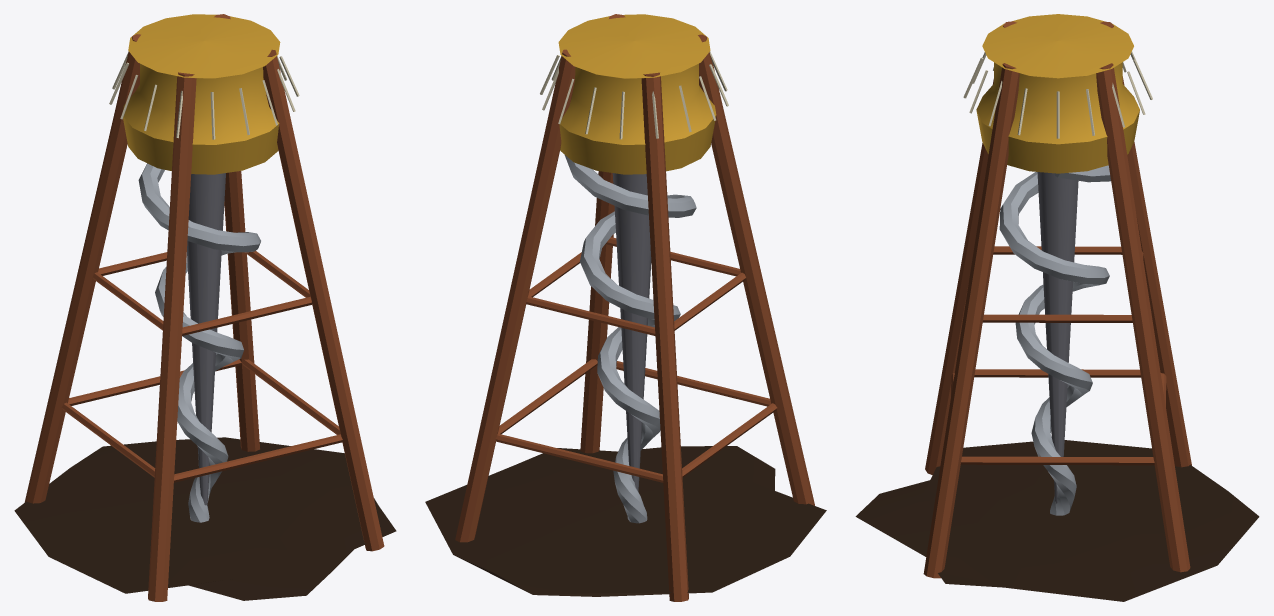
File: drill_rig.glb
The picture shows the model from 3 angles, left to right: view 1: azimuth 30°, elevation 25°; view 2: azimuth 150°, elevation 25°; view 3: azimuth 270°, elevation 25°; orthographic projection.
Parts seen in each view (by area): view 1: drill_rig; view 2: drill_rig; view 3: drill_rig.
Part boxes in pixels (bbox=[...]): drill_rig: bbox=[14, 14, 396, 601]; drill_rig: bbox=[425, 14, 826, 601]; drill_rig: bbox=[855, 14, 1259, 601].
Bounding box in the file's own units: 13 × 18.27 × 13.82.
